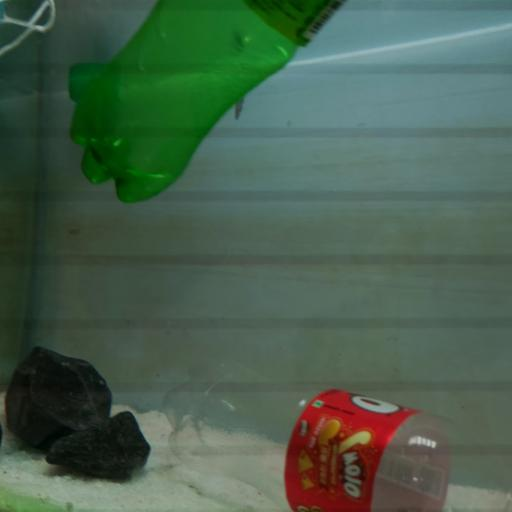bottle_cap: (68, 76, 98, 99)
plastic_bottle: (69, 0, 348, 202), (162, 357, 512, 512)
